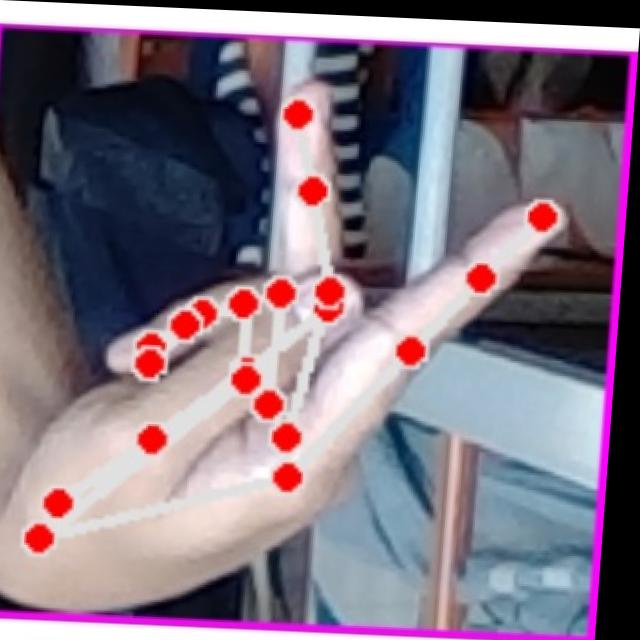P: (1, 56, 596, 622)
